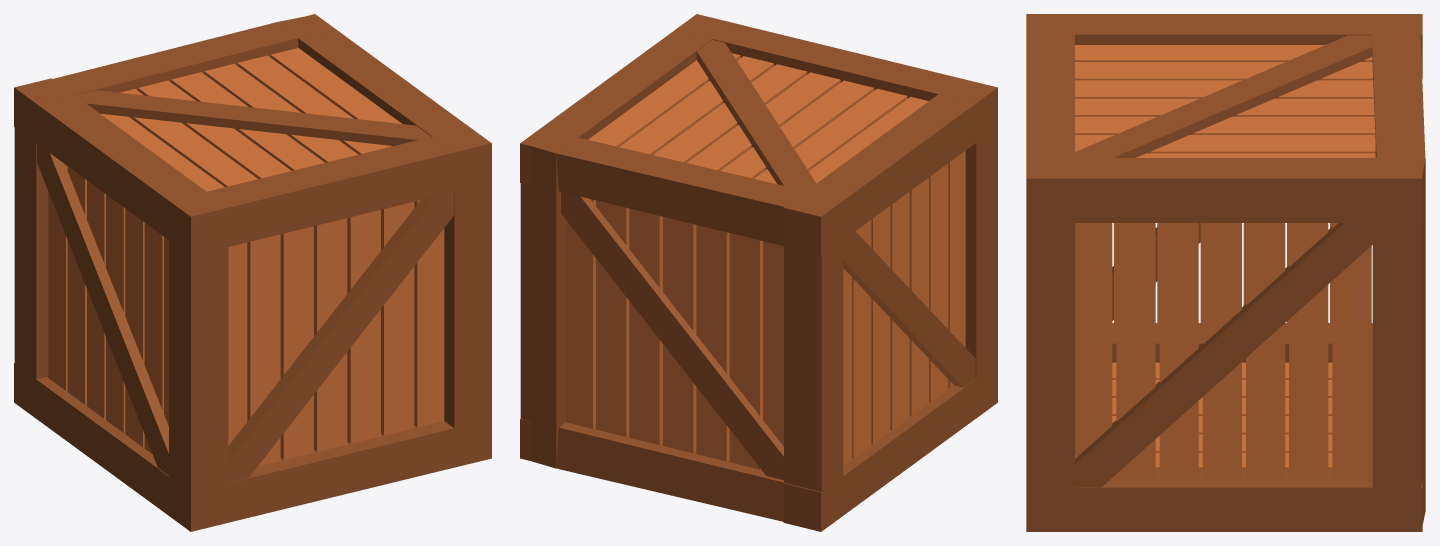
Rendered from Crate 1.glb.
3 renders of one model, left to right at view 1: azimuth 30°, elevation 25°; view 2: azimuth 150°, elevation 25°; view 3: azimuth 270°, elevation 25°, orthographic. The views are drawn at different scales.
Parts seen in each view (by area): view 1: Crate1; view 2: Crate1; view 3: Crate1.
Part boxes in pixels (x1,y1,x2,y2): Crate1: [14, 14, 491, 531]; Crate1: [520, 14, 997, 531]; Crate1: [1026, 14, 1425, 531].
Size of the model in its own units: 0.6225 by 0.6226 by 0.6377.
